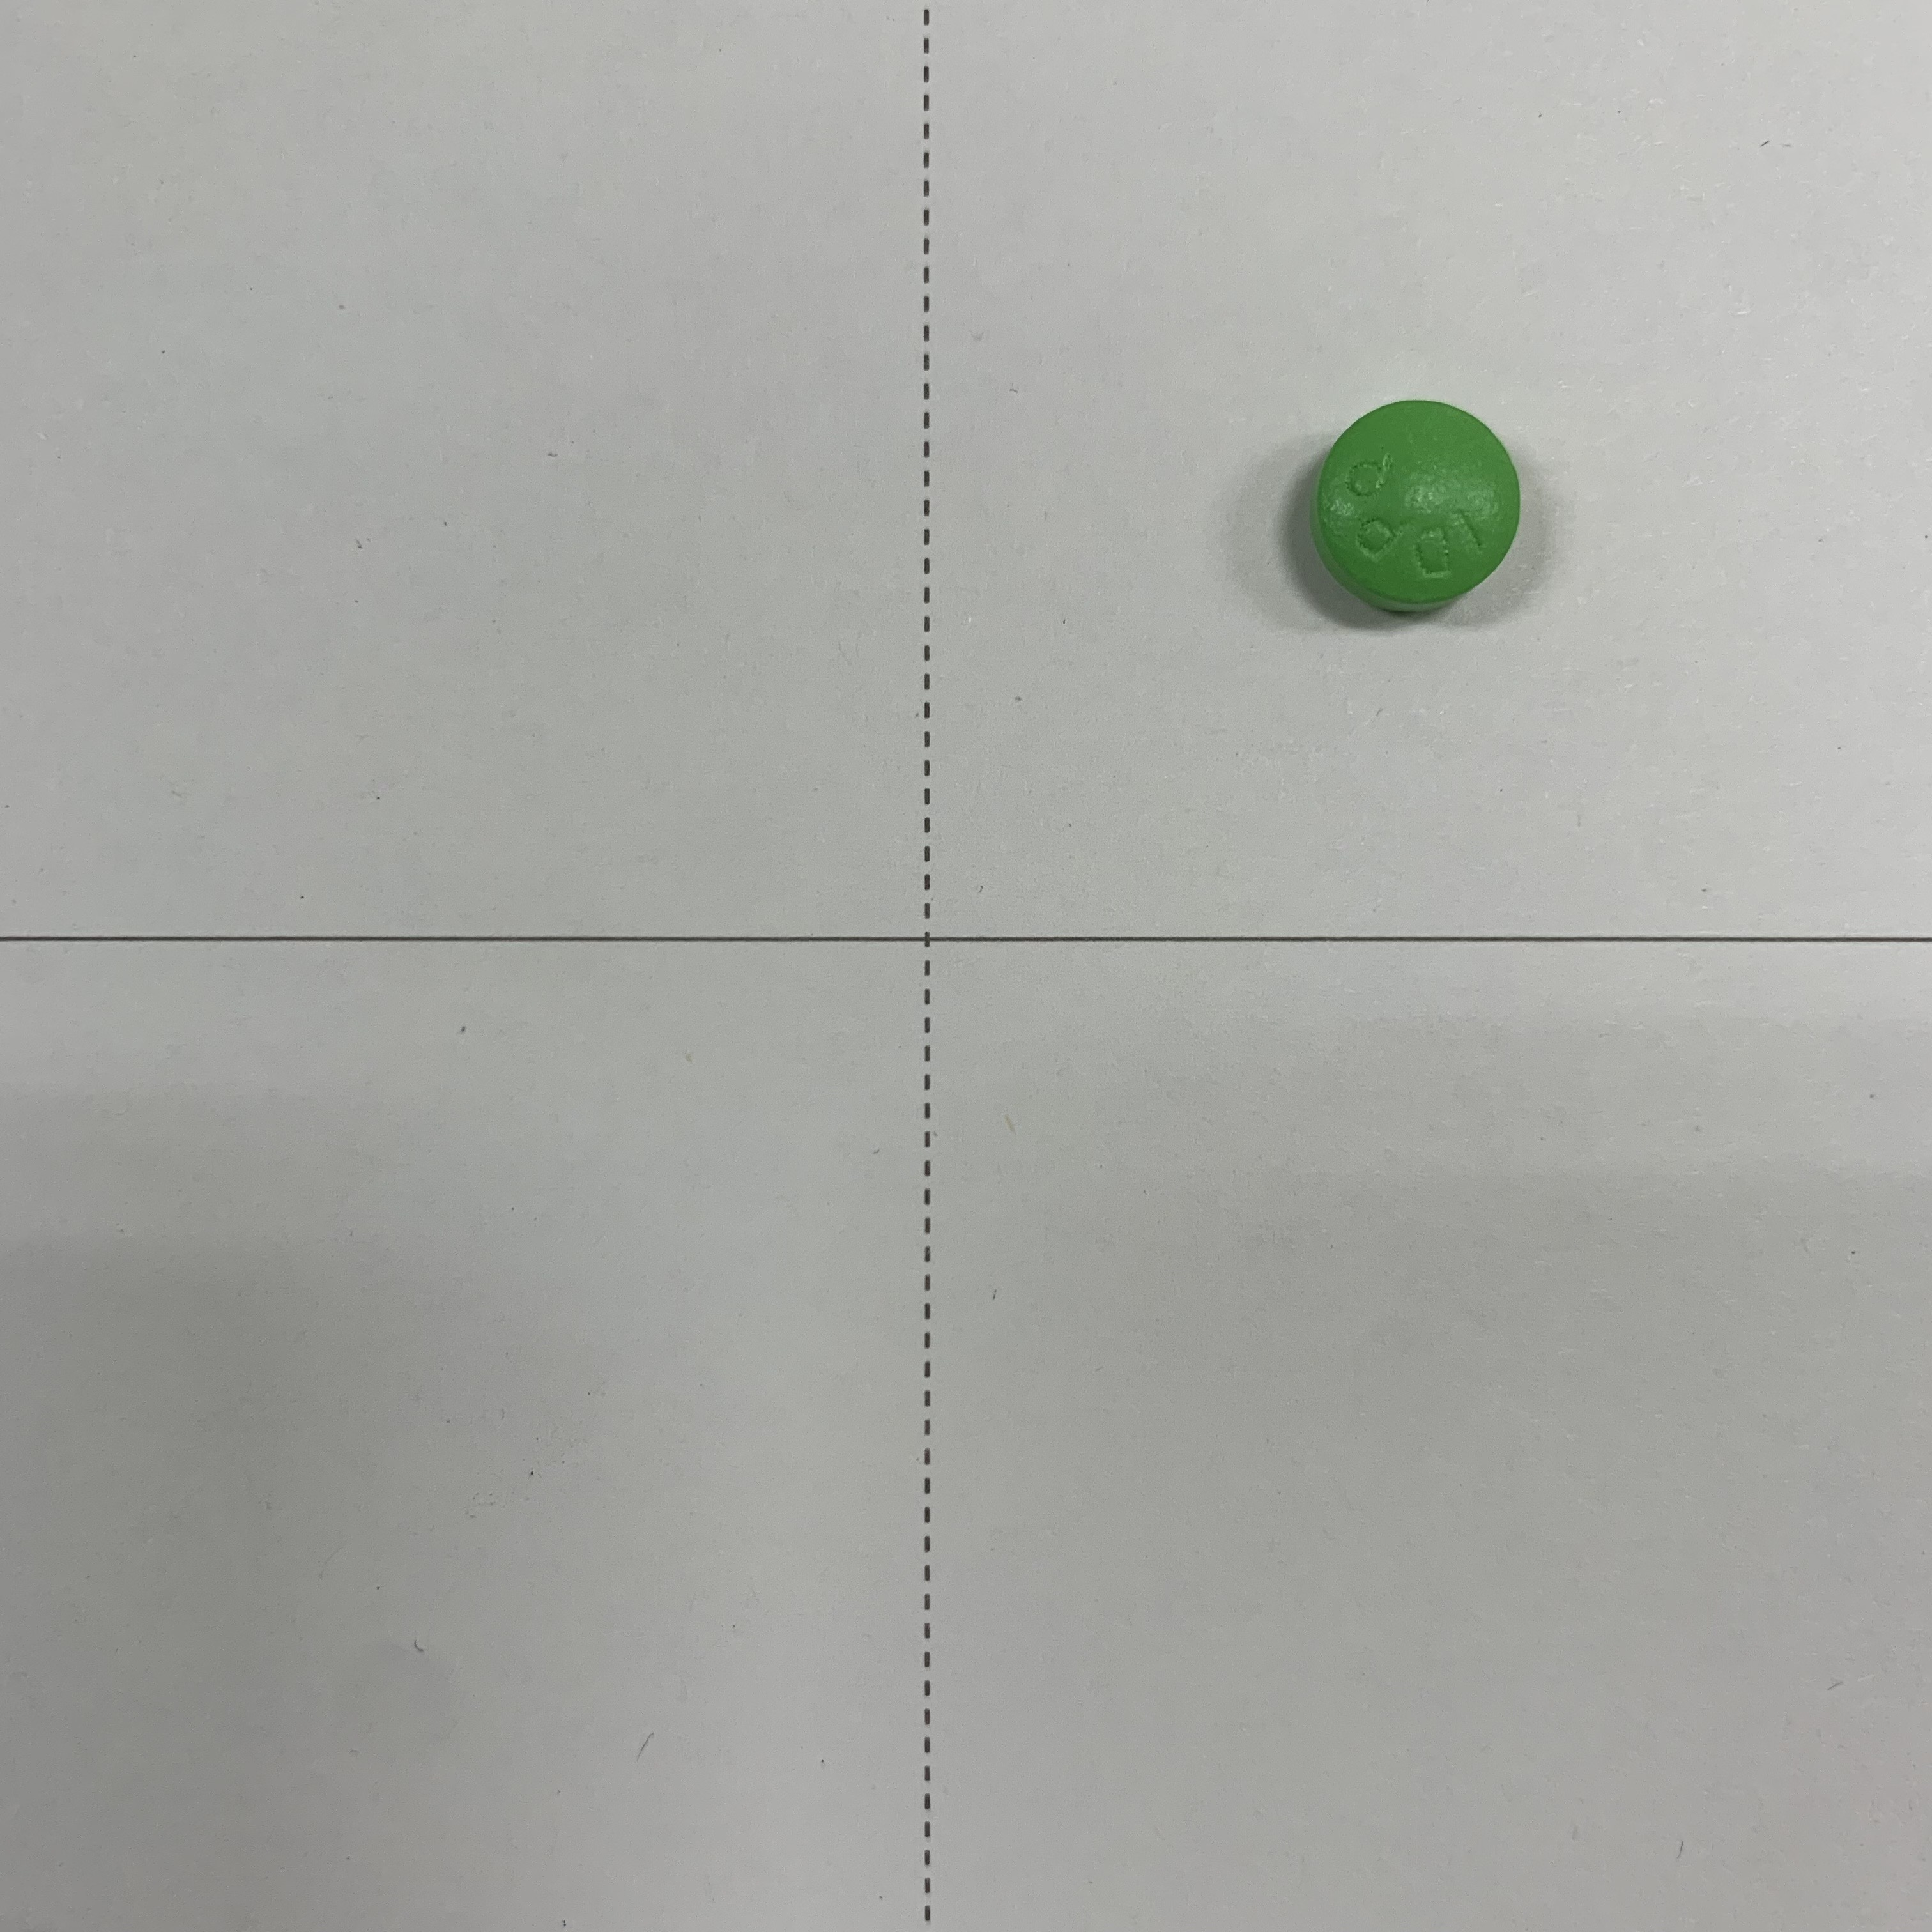cir_drug: (1292, 377, 1550, 621)
